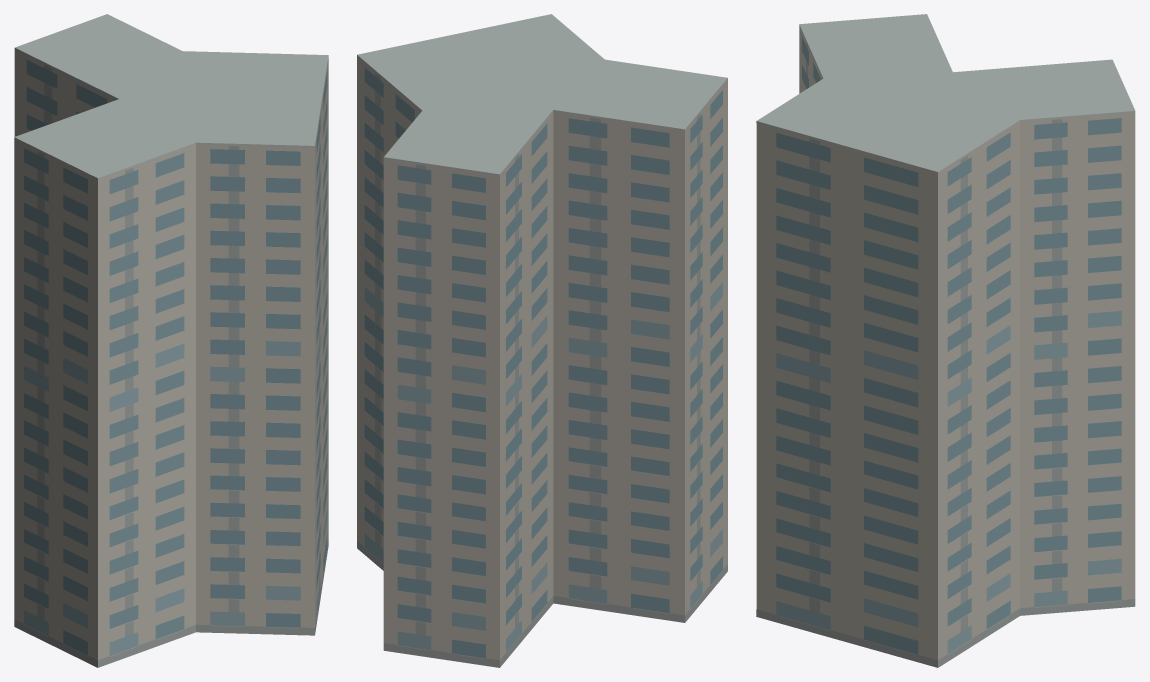
The model's file is residential-7e2cac6f-283f-4b41-ab6a-d2746450336f.glb.
3 renders of one model, left to right at view 1: azimuth 30°, elevation 25°; view 2: azimuth 150°, elevation 25°; view 3: azimuth 270°, elevation 25°, orthographic.
Visible parts, largest first — view 1: residential-7e2cac6f-283f-4b41-ab6a-d2746450336f.tmp; view 2: residential-7e2cac6f-283f-4b41-ab6a-d2746450336f.tmp; view 3: residential-7e2cac6f-283f-4b41-ab6a-d2746450336f.tmp.
Part boxes in pixels (left/top/right/bottom): residential-7e2cac6f-283f-4b41-ab6a-d2746450336f.tmp: left=14, top=14, right=328, bottom=667; residential-7e2cac6f-283f-4b41-ab6a-d2746450336f.tmp: left=357, top=14, right=727, bottom=667; residential-7e2cac6f-283f-4b41-ab6a-d2746450336f.tmp: left=756, top=14, right=1135, bottom=667.
Size of the model in its own units: 34.88 by 51 by 35.33.
